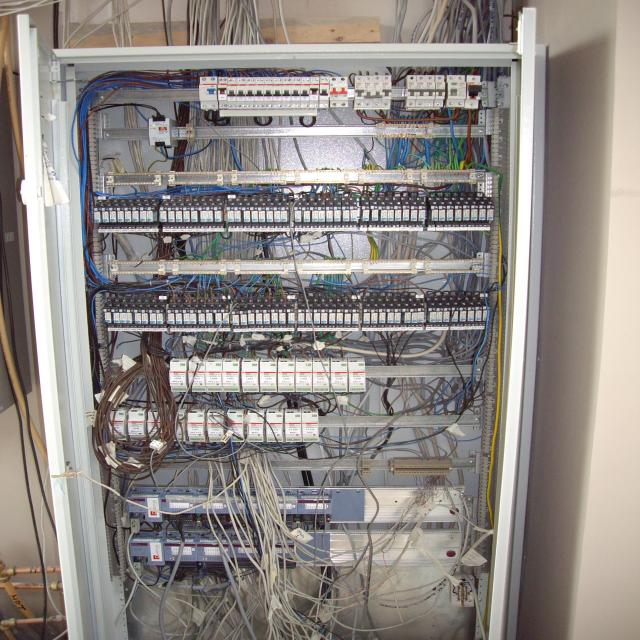Dimmer: (170, 359, 188, 392), (188, 360, 206, 393), (241, 360, 259, 392), (347, 359, 365, 391), (313, 359, 330, 392), (330, 359, 347, 392), (108, 410, 126, 441), (128, 410, 146, 441), (206, 360, 223, 392), (223, 358, 239, 392), (278, 360, 295, 391), (261, 360, 277, 392), (296, 360, 312, 392), (227, 412, 244, 442), (247, 412, 264, 442), (302, 413, 319, 443), (267, 411, 283, 442), (207, 413, 224, 442), (188, 412, 204, 442), (285, 412, 301, 441), (148, 409, 162, 439), (173, 411, 185, 441)
FI_Sicherungskombi: (329, 76, 348, 108)
Leitungsschutzschalter: (199, 76, 218, 110), (468, 75, 480, 110), (218, 76, 228, 110), (273, 76, 283, 110), (246, 77, 256, 110), (264, 76, 274, 108), (354, 76, 364, 108), (407, 76, 417, 108), (447, 75, 457, 106), (310, 76, 319, 110), (320, 76, 329, 110), (228, 77, 237, 110), (237, 77, 246, 110), (283, 77, 292, 109), (292, 77, 301, 109), (373, 75, 382, 107), (382, 76, 391, 108), (457, 75, 466, 107), (364, 76, 373, 107), (256, 77, 264, 110), (301, 77, 309, 110), (417, 75, 425, 108), (426, 76, 434, 108), (436, 76, 444, 108)
Relais: (213, 207, 223, 222), (221, 309, 230, 324), (242, 207, 250, 223), (333, 206, 341, 222), (379, 206, 387, 222), (213, 310, 222, 324), (402, 309, 411, 323), (167, 207, 175, 222), (250, 207, 258, 222), (258, 207, 266, 222), (281, 207, 289, 222), (294, 207, 302, 222), (302, 207, 310, 222), (310, 207, 318, 222), (394, 206, 402, 221), (116, 208, 124, 222), (190, 208, 198, 222), (198, 208, 206, 222), (226, 208, 234, 222), (342, 206, 349, 222), (349, 206, 356, 222), (402, 206, 410, 220), (103, 309, 111, 323), (111, 309, 119, 323), (182, 310, 190, 324), (410, 309, 418, 323), (428, 308, 436, 322), (94, 208, 101, 223), (102, 208, 109, 223), (132, 207, 139, 222), (160, 207, 167, 222), (206, 207, 213, 222), (234, 207, 241, 222), (274, 207, 281, 222), (318, 207, 325, 222), (326, 207, 333, 222), (362, 206, 369, 221), (371, 206, 378, 221), (387, 206, 394, 221), (418, 206, 425, 221), (431, 206, 438, 221), (455, 206, 462, 221), (134, 309, 141, 324), (141, 309, 148, 324), (149, 309, 156, 324), (156, 309, 163, 324), (287, 309, 294, 324), (352, 309, 359, 324), (364, 309, 371, 324), (387, 309, 394, 324), (109, 208, 116, 222), (125, 208, 132, 222), (175, 208, 182, 222), (183, 208, 190, 222), (266, 208, 273, 222), (125, 309, 132, 323), (168, 310, 175, 324), (175, 310, 182, 324), (198, 310, 205, 324), (240, 311, 247, 325), (263, 310, 270, 324), (271, 310, 278, 324), (279, 310, 286, 324), (379, 310, 386, 324), (394, 309, 401, 323), (459, 308, 466, 322), (206, 310, 213, 323), (232, 312, 239, 325), (298, 310, 305, 323), (140, 207, 146, 222), (147, 207, 153, 222), (411, 206, 417, 221), (439, 206, 445, 221), (487, 205, 493, 220), (337, 309, 343, 324), (418, 308, 424, 323), (437, 308, 443, 323), (447, 206, 453, 220), (463, 206, 469, 220), (471, 206, 477, 220), (480, 206, 486, 220), (120, 309, 126, 323), (190, 310, 196, 324), (256, 310, 262, 324), (306, 310, 312, 324), (314, 310, 320, 324), (329, 310, 335, 324), (345, 310, 351, 324), (371, 310, 377, 324), (443, 308, 449, 322), (452, 308, 458, 322), (468, 308, 474, 322), (483, 307, 489, 321), (248, 311, 254, 324), (322, 310, 327, 324), (476, 307, 481, 321)
SPS-System -Steuerungskomponente-: (130, 534, 166, 558), (161, 489, 195, 514), (194, 489, 228, 514), (298, 489, 330, 515), (197, 535, 229, 561), (166, 535, 196, 562), (129, 490, 161, 513), (227, 489, 257, 513), (277, 489, 297, 514), (231, 537, 253, 558), (277, 540, 298, 556)
